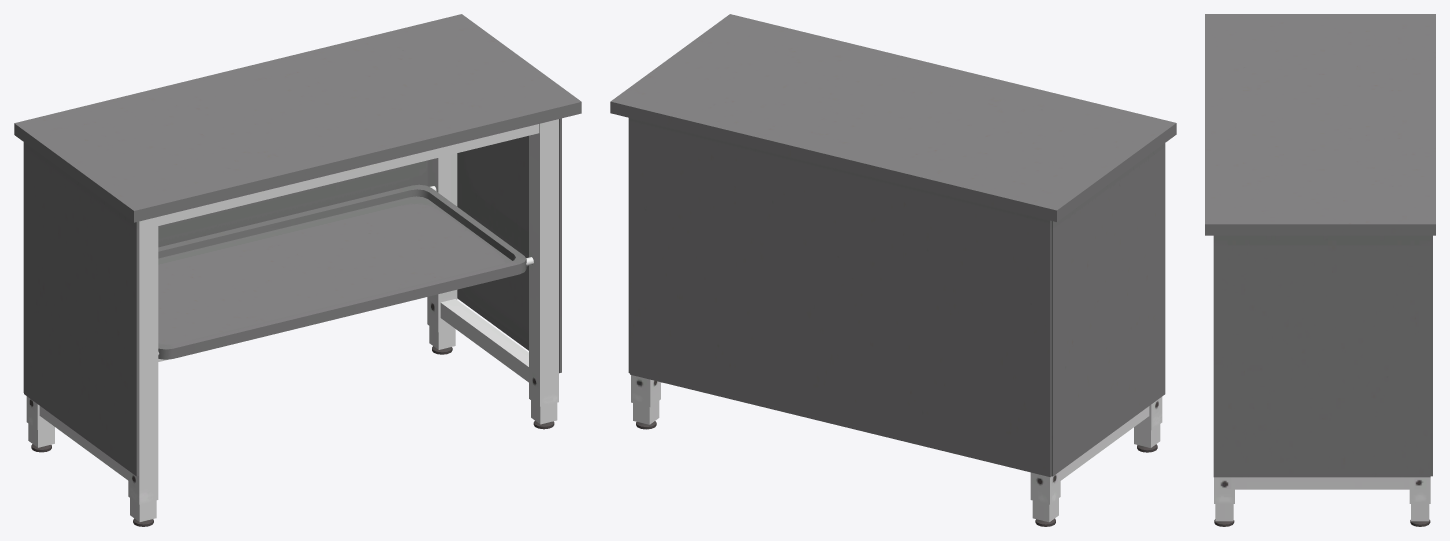
The model's file is SM_Metal_Desk_01a.glb.
3 views of the same model, side by side, from view 1: azimuth 30°, elevation 25°; view 2: azimuth 150°, elevation 25°; view 3: azimuth 270°, elevation 25° (orthographic). The views are drawn at different scales.
Visible parts, largest first — view 1: SM_Metal_Desk_01a; view 2: SM_Metal_Desk_01a; view 3: SM_Metal_Desk_01a.
Part boxes in pixels (left/top/right/bottom): SM_Metal_Desk_01a: left=14, top=14, right=581, bottom=526; SM_Metal_Desk_01a: left=610, top=14, right=1176, bottom=526; SM_Metal_Desk_01a: left=1205, top=14, right=1435, bottom=526.
Size of the model in its own units: 1.35 by 0.9343 by 0.6279.
Materials: 1 (1 with a texture image).
